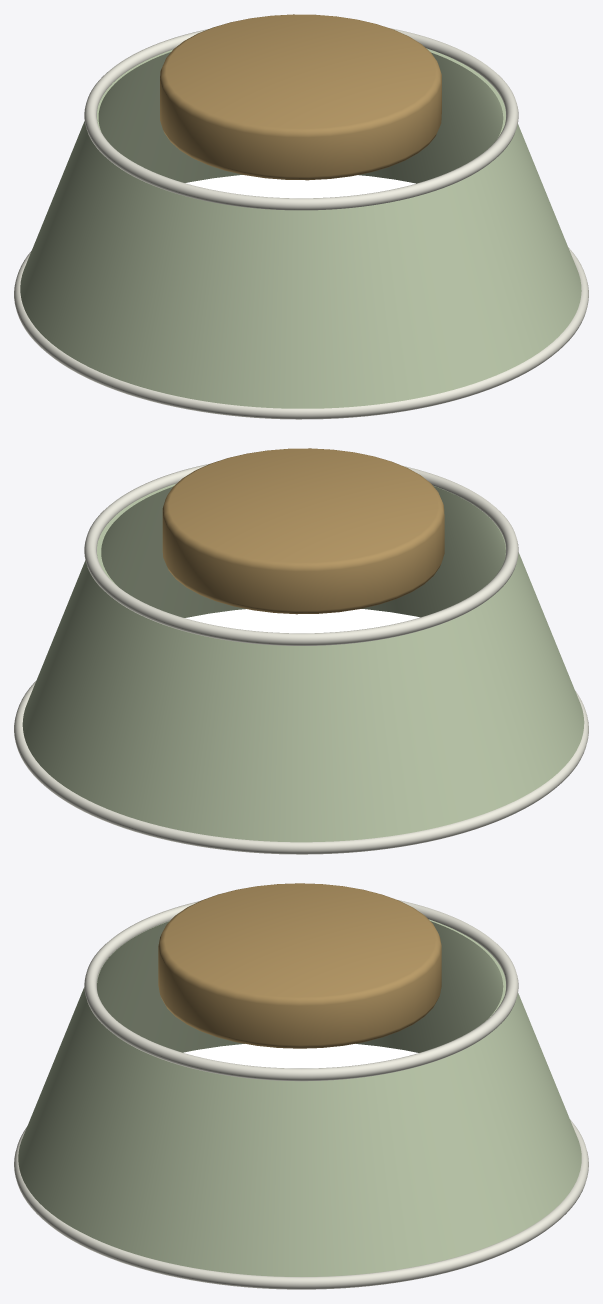
File: linen-flush-light.glb
The picture shows the model from 3 angles, top to bottom: view 1: azimuth 30°, elevation 25°; view 2: azimuth 150°, elevation 25°; view 3: azimuth 270°, elevation 25°; orthographic projection.
Visible parts, largest first — view 1: catalog_surface_RealismUV, catalog_surface_UVMap; view 2: catalog_surface_RealismUV, catalog_surface_UVMap; view 3: catalog_surface_RealismUV, catalog_surface_UVMap.
Part boxes in pixels (left/top/right/bottom): catalog_surface_RealismUV: left=14, top=14, right=588, bottom=419; catalog_surface_UVMap: left=185, top=175, right=415, bottom=198; catalog_surface_RealismUV: left=14, top=448, right=588, bottom=854; catalog_surface_UVMap: left=185, top=609, right=419, bottom=633; catalog_surface_RealismUV: left=14, top=883, right=588, bottom=1289; catalog_surface_UVMap: left=183, top=1044, right=418, bottom=1068.
Bounding box in the file's own units: 0.5 × 0.22 × 0.5.
